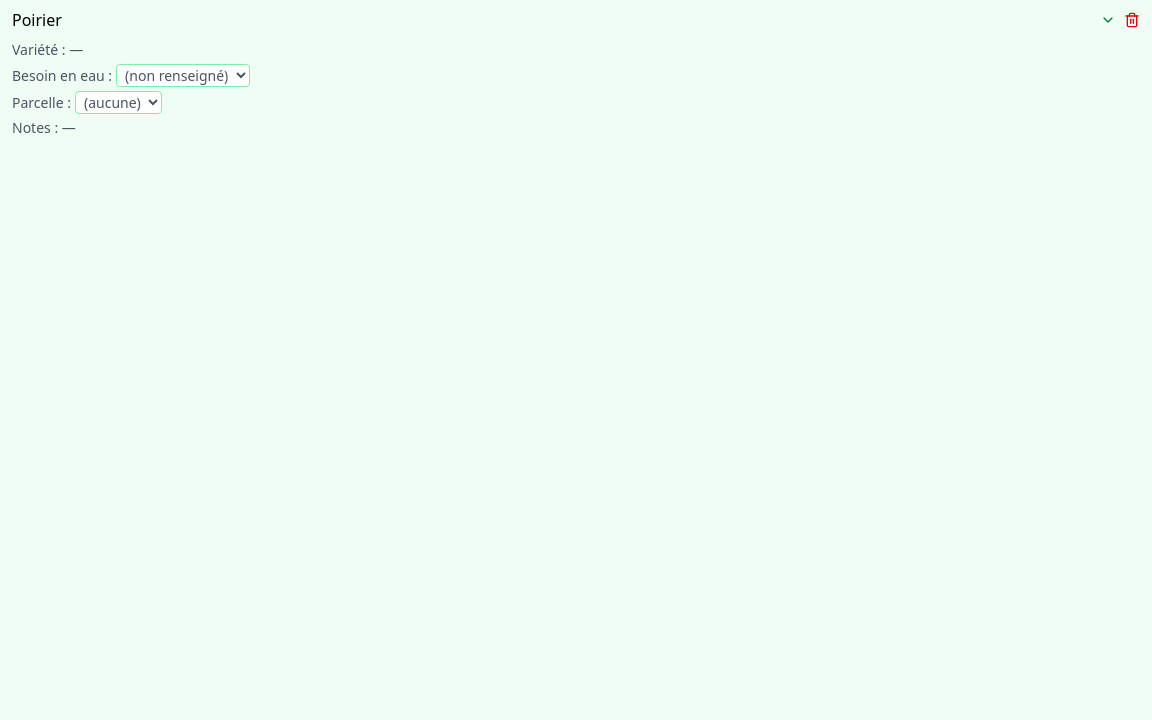
Test: TreeCard › affiche la galerie photo de l arbre triee par date decroissante
The image size is (1152, 720).
Click the button named "Afficher l'historique" at (1108, 20), box [1100, 12, 1116, 28]
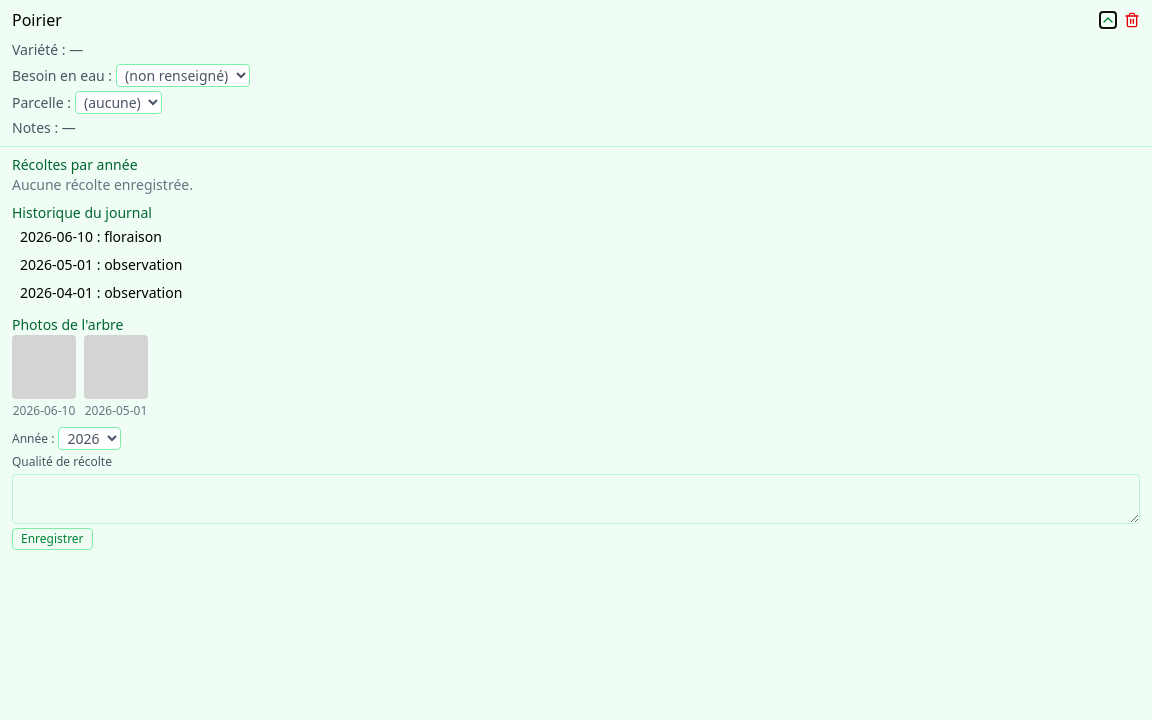
Check: the text "2026-06-10" is shown, box [13, 403, 75, 419]
